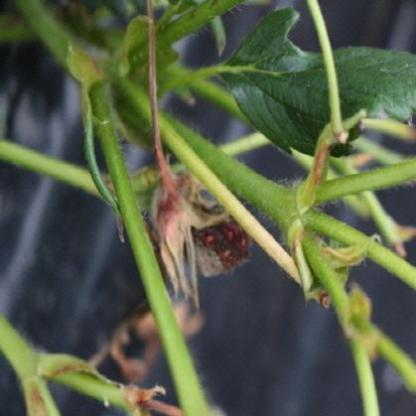Strawberry_Gray_Mold: (150, 162, 252, 309)
